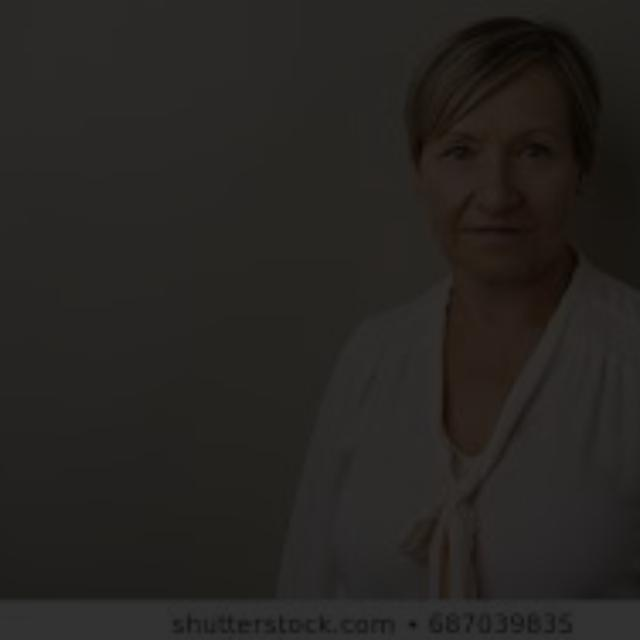Natural: (390, 93, 609, 285)
